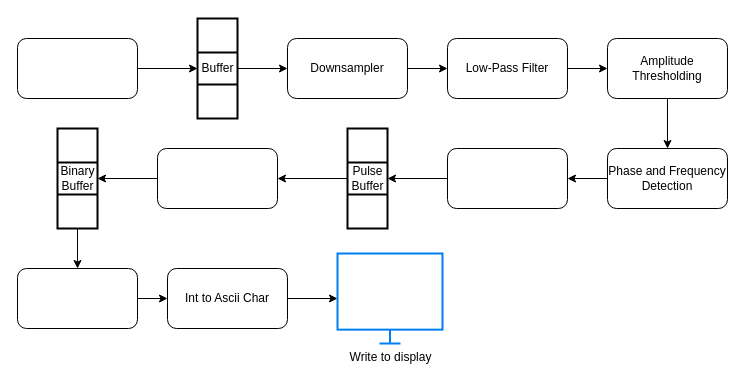
Some shapes in this 745 by 381 pixel diagram are drawn without their labels. Each missing label, with the centre of its shape:
Conversion to Binary: the point at 217,178
Hamming Error Correction: the point at 77,298
Pulse Midpoint Sampling: the point at 507,178
Raw SDR Sample Stream (From Receiver): the point at 77,68
